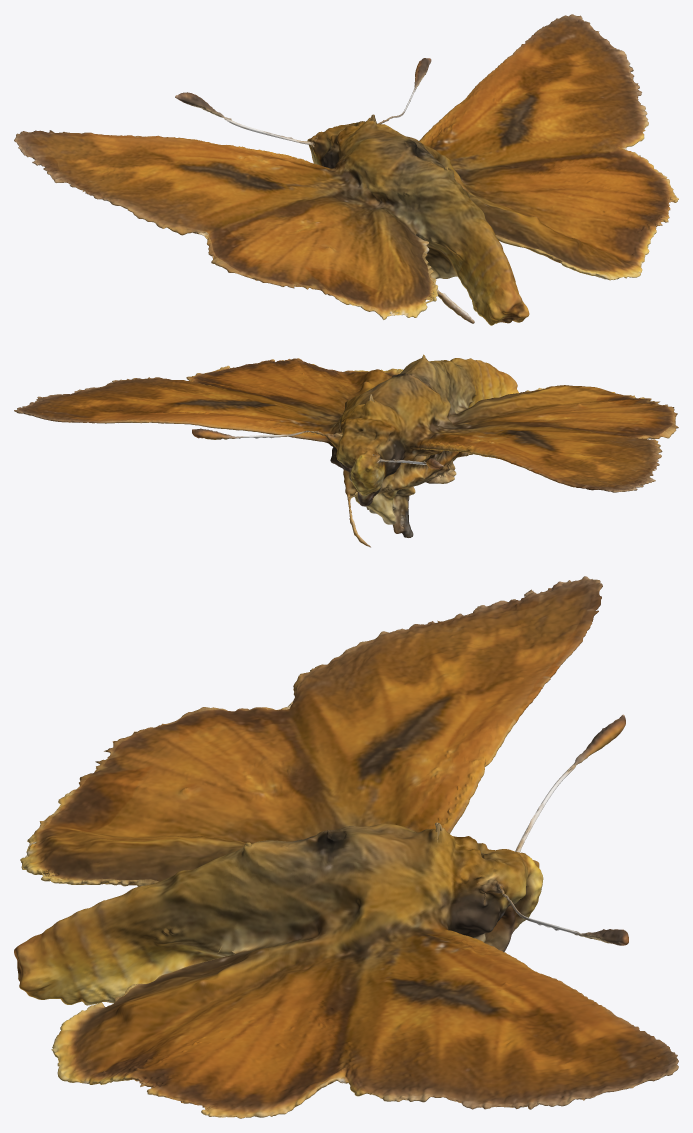
The model's file is woodland_skipper_butterfly_mod1.glb.
3 views of the same model, one above another, from view 1: azimuth 30°, elevation 25°; view 2: azimuth 150°, elevation 25°; view 3: azimuth 270°, elevation 25° (orthographic). The views are drawn at different scales.
Visible parts, largest first — view 1: Object_3, Object_2, Object_4, Object_5, Object_6; view 2: Object_3, Object_2, Object_4, Object_5, Object_6; view 3: Object_3, Object_2, Object_4, Object_5, Object_6.
Boxes of the visible parts, <box> form: Object_3: <box>20,25,676,322</box>; Object_2: <box>20,14,657,317</box>; Object_4: <box>14,65,674,325</box>; Object_5: <box>16,20,678,322</box>; Object_6: <box>15,24,671,323</box>; Object_3: <box>43,358,678,537</box>; Object_2: <box>14,354,661,523</box>; Object_4: <box>108,360,659,524</box>; Object_5: <box>17,355,662,546</box>; Object_6: <box>21,359,673,547</box>; Object_3: <box>19,583,666,1115</box>; Object_2: <box>22,583,678,1097</box>; Object_4: <box>14,576,625,1109</box>; Object_5: <box>18,579,664,1118</box>; Object_6: <box>15,576,674,1117</box>.
Bounding box in the file's own units: 1.45 × 0.3995 × 0.9213.
Materials: 1 (1 with a texture image).
